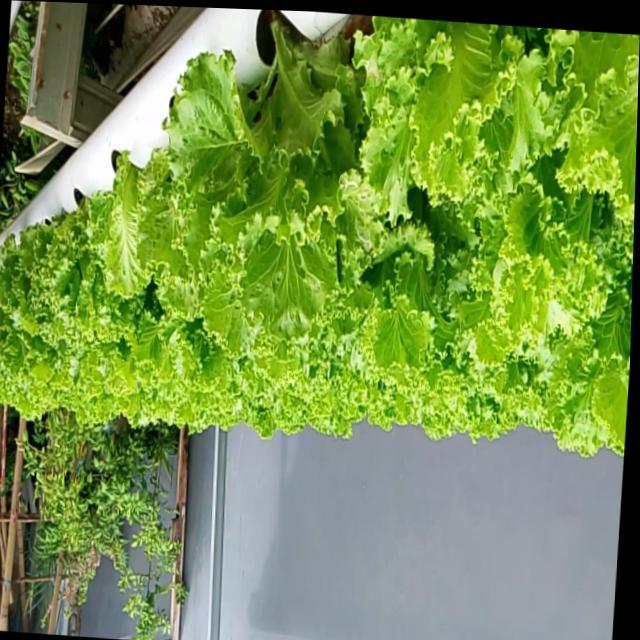Mature: (0, 10, 640, 453), (154, 11, 379, 341), (27, 181, 136, 345)
